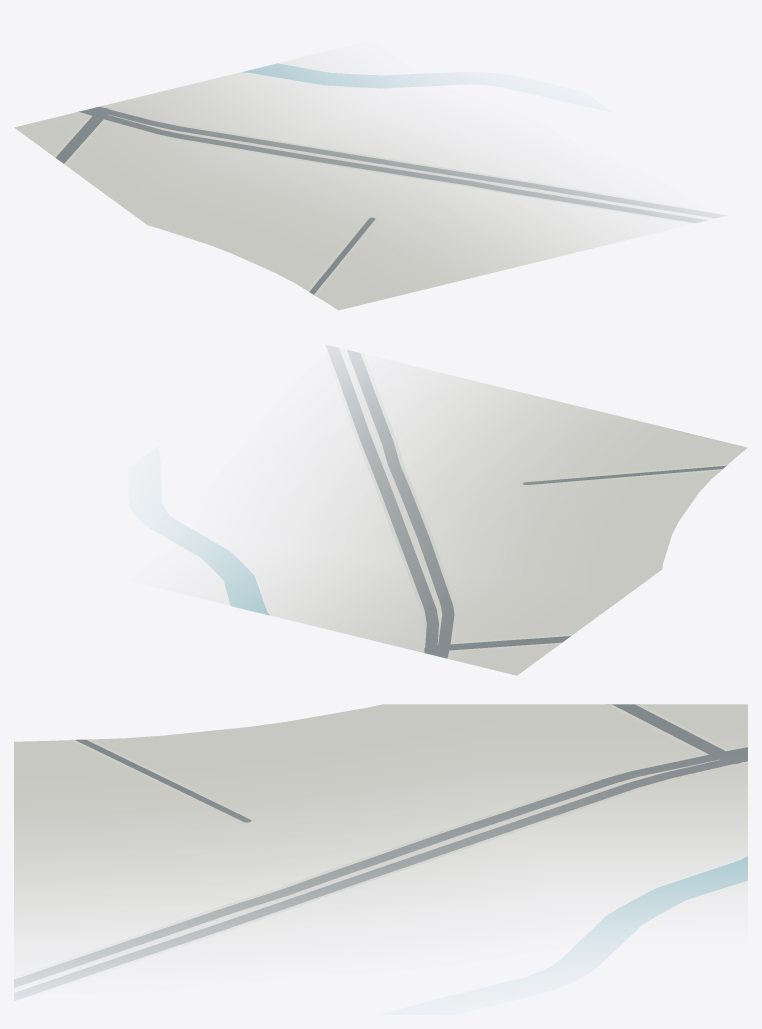
3 views of the same model, one above another, from view 1: azimuth 30°, elevation 25°; view 2: azimuth 150°, elevation 25°; view 3: azimuth 270°, elevation 25° (orthographic). The views are drawn at different scales.
Parts seen in each view (by area): view 1: city; view 2: city; view 3: city.
Part boxes in pixels (x1=…): city: x1=14, y1=53, x2=725, y2=310; city: x1=165, y1=345, x2=747, y2=675; city: x1=14, y1=704, x2=747, y2=1000.
Bounding box in the file's own units: 500 × 0.4 × 500.
